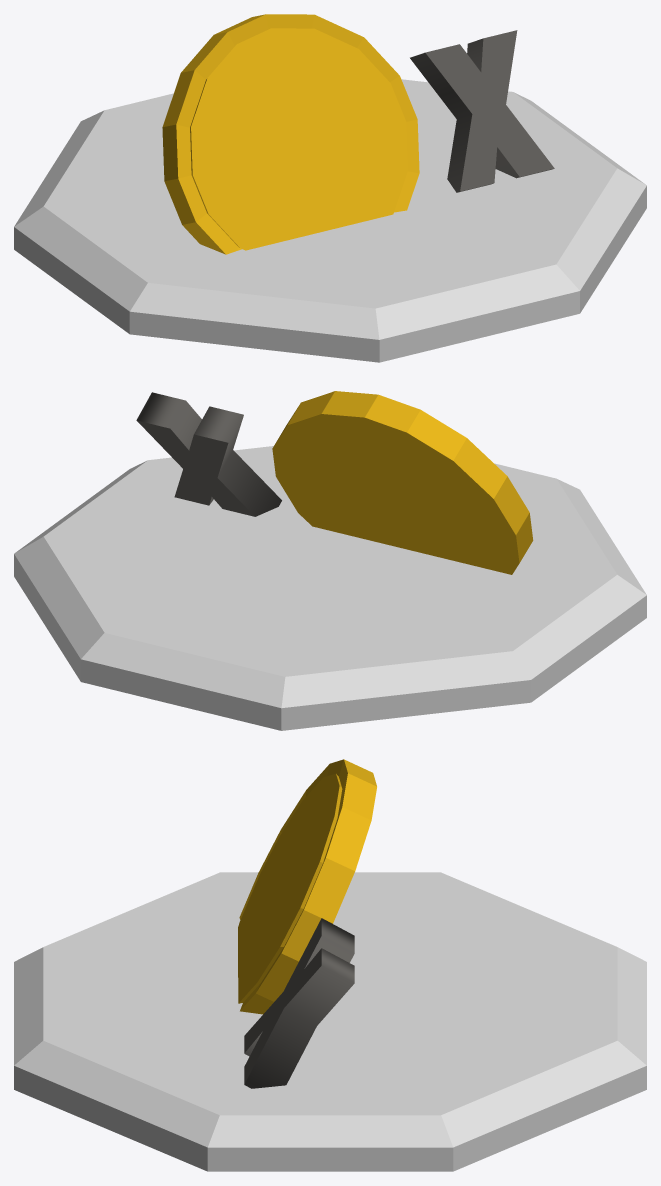
The model's file is Multiplicable.fbx.
3 renders of one model, top to bottom at view 1: azimuth 30°, elevation 25°; view 2: azimuth 150°, elevation 25°; view 3: azimuth 270°, elevation 25°, orthographic. The views are drawn at different scales.
Parts seen in each view (by area): view 1: Cube, Cube.001, Text; view 2: Cube, Cube.001, Text; view 3: Cube, Cube.001, Text.
Boxes of the visible parts, box(x1,y1,x2,y2) form: Cube: box(14, 79, 646, 362); Cube.001: box(162, 14, 419, 254); Text: box(410, 30, 554, 192); Cube: box(14, 446, 646, 730); Cube.001: box(272, 391, 533, 574); Text: box(136, 392, 281, 516); Cube: box(14, 872, 646, 1171); Cube.001: box(238, 759, 376, 1014); Text: box(244, 918, 354, 1088).
Bounding box in the file's own units: 90.03 × 39.28 × 90.03.
